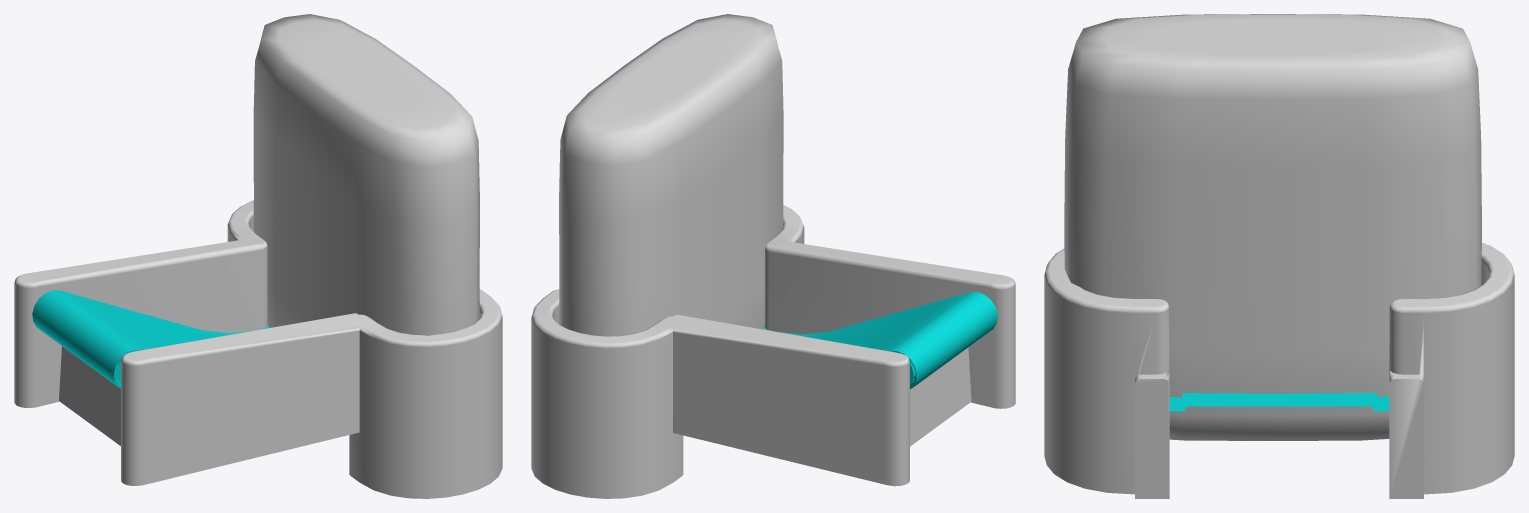
File: FluidPortSenderInternalVariant.gltf
3 views of the same model, side by side, from view 1: azimuth 30°, elevation 25°; view 2: azimuth 150°, elevation 25°; view 3: azimuth 270°, elevation 25° (orthographic). The views are drawn at different scales.
Visible parts, largest first — view 1: BeltPort_Sender_Main_LOD0.002, FluidBridgeSender_Container_Glass.001; view 2: BeltPort_Sender_Main_LOD0.002, FluidBridgeSender_Container_Glass.001; view 3: FluidBridgeSender_Container_Glass.001, BeltPort_Sender_Main_LOD0.002.
Part boxes in pixels (bbox=[...]): BeltPort_Sender_Main_LOD0.002: bbox=[14, 200, 502, 498]; FluidBridgeSender_Container_Glass.001: bbox=[253, 14, 479, 335]; BeltPort_Sender_Main_LOD0.002: bbox=[531, 205, 1015, 498]; FluidBridgeSender_Container_Glass.001: bbox=[559, 14, 783, 336]; FluidBridgeSender_Container_Glass.001: bbox=[1064, 14, 1481, 440]; BeltPort_Sender_Main_LOD0.002: bbox=[1044, 243, 1514, 498].
Bounding box in the file's own units: 1 × 0.9058 × 0.9241.
